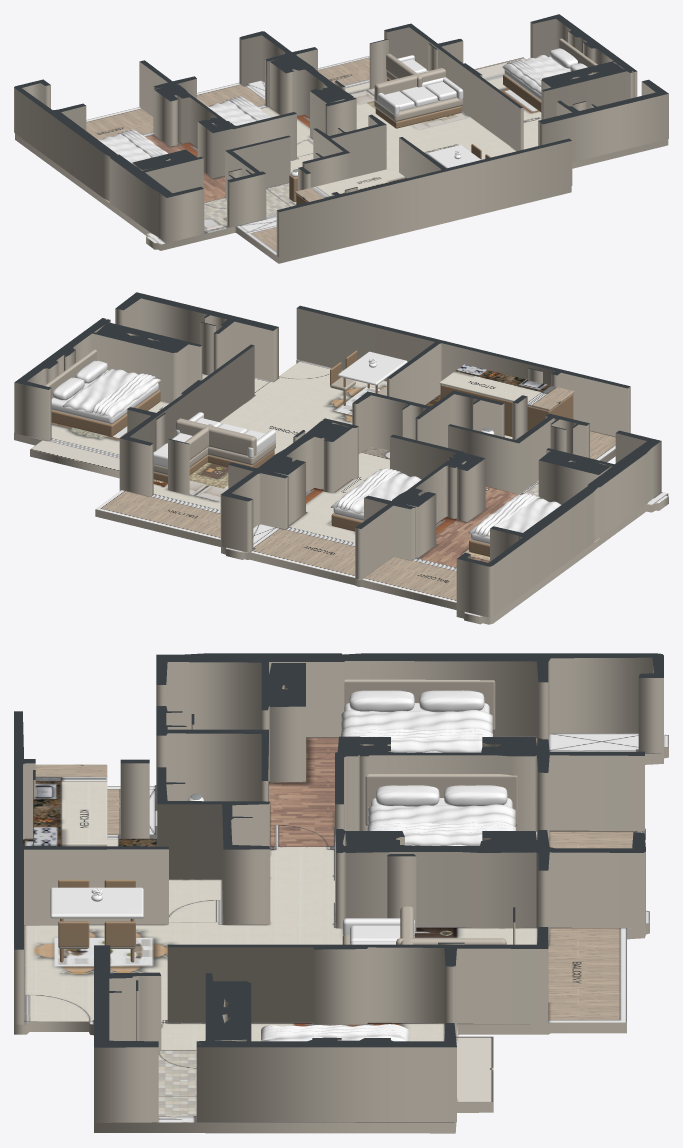
The picture shows the model from 3 angles, top to bottom: view 1: azimuth 30°, elevation 25°; view 2: azimuth 150°, elevation 25°; view 3: azimuth 270°, elevation 25°; orthographic projection. The views are drawn at different scales.
Visible parts, largest first — view 1: Partition walls, Apartment floor, Stone worktop, Draped bed linen.004, Upholstered sofa frame, Sofa back, Draped bed linen, Marble dining top, Draped bed linen.002, Sofa plinth, Sofa back.001, Draped bed linen.001 (+5 smaller); view 2: Partition walls, Apartment floor, Stone worktop, Draped bed linen.004, Sofa back, Kitchen cabinets, Marble dining top, Walnut upholstered base.002, Draped bed linen, Draped bed linen.002, Piped mattress.002, Draped bed linen.001 (+5 smaller); view 3: Partition walls, Apartment floor, Stone worktop, Draped bed linen, Draped bed linen.002, Marble dining top, Upholstered headboard.001, Upholstered headboard, Draped bed linen.005, Draped bed linen.001, Draped bed linen.003, Tailored pillow (+6 smaller).
Part boxes in pixels (x1,y1,x2,y2): Partition walls: (14,14,668,257); Apartment floor: (15,56,668,263); Stone worktop: (295,168,406,202); Draped bed linen.004: (502,55,568,94); Upholstered sofa frame: (374,97,463,121); Sofa back: (374,68,445,100); Draped bed linen: (98,130,167,163); Marble dining top: (427,145,480,168); Draped bed linen.002: (207,97,271,125); Sofa plinth: (375,106,461,128); Sofa back.001: (386,53,422,87); Draped bed linen.001: (117,129,165,157); Partition walls: (14,292,661,617); Apartment floor: (14,359,668,624); Stone worktop: (439,364,574,410); Draped bed linen.004: (62,368,161,418); Sofa back: (176,418,256,455); Kitchen cabinets: (440,384,573,436); Marble dining top: (338,351,407,385); Walnut upholstered base.002: (51,390,160,436); Draped bed linen: (468,494,560,536); Draped bed linen.002: (330,469,421,513); Piped mattress.002: (51,370,158,423); Draped bed linen.001: (473,493,540,536); Partition walls: (14,653,663,1122); Apartment floor: (14,733,668,1133); Stone worktop: (33,764,107,846); Draped bed linen: (341,710,492,752); Draped bed linen.002: (368,804,515,845); Marble dining top: (50,887,143,918); Upholstered headboard.001: (365,774,517,825); Upholstered headboard: (344,679,495,730); Draped bed linen.005: (261,1024,409,1041); Draped bed linen.001: (341,728,492,742); Draped bed linen.003: (367,821,515,836); Tailored pillow: (349,690,414,712).
Bounding box in the file's own units: 13.02 × 1.3 × 9.
Materials: 10 (1 with a texture image).
